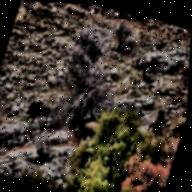boar: (20, 94, 55, 132), (142, 101, 172, 144), (72, 118, 97, 142)
